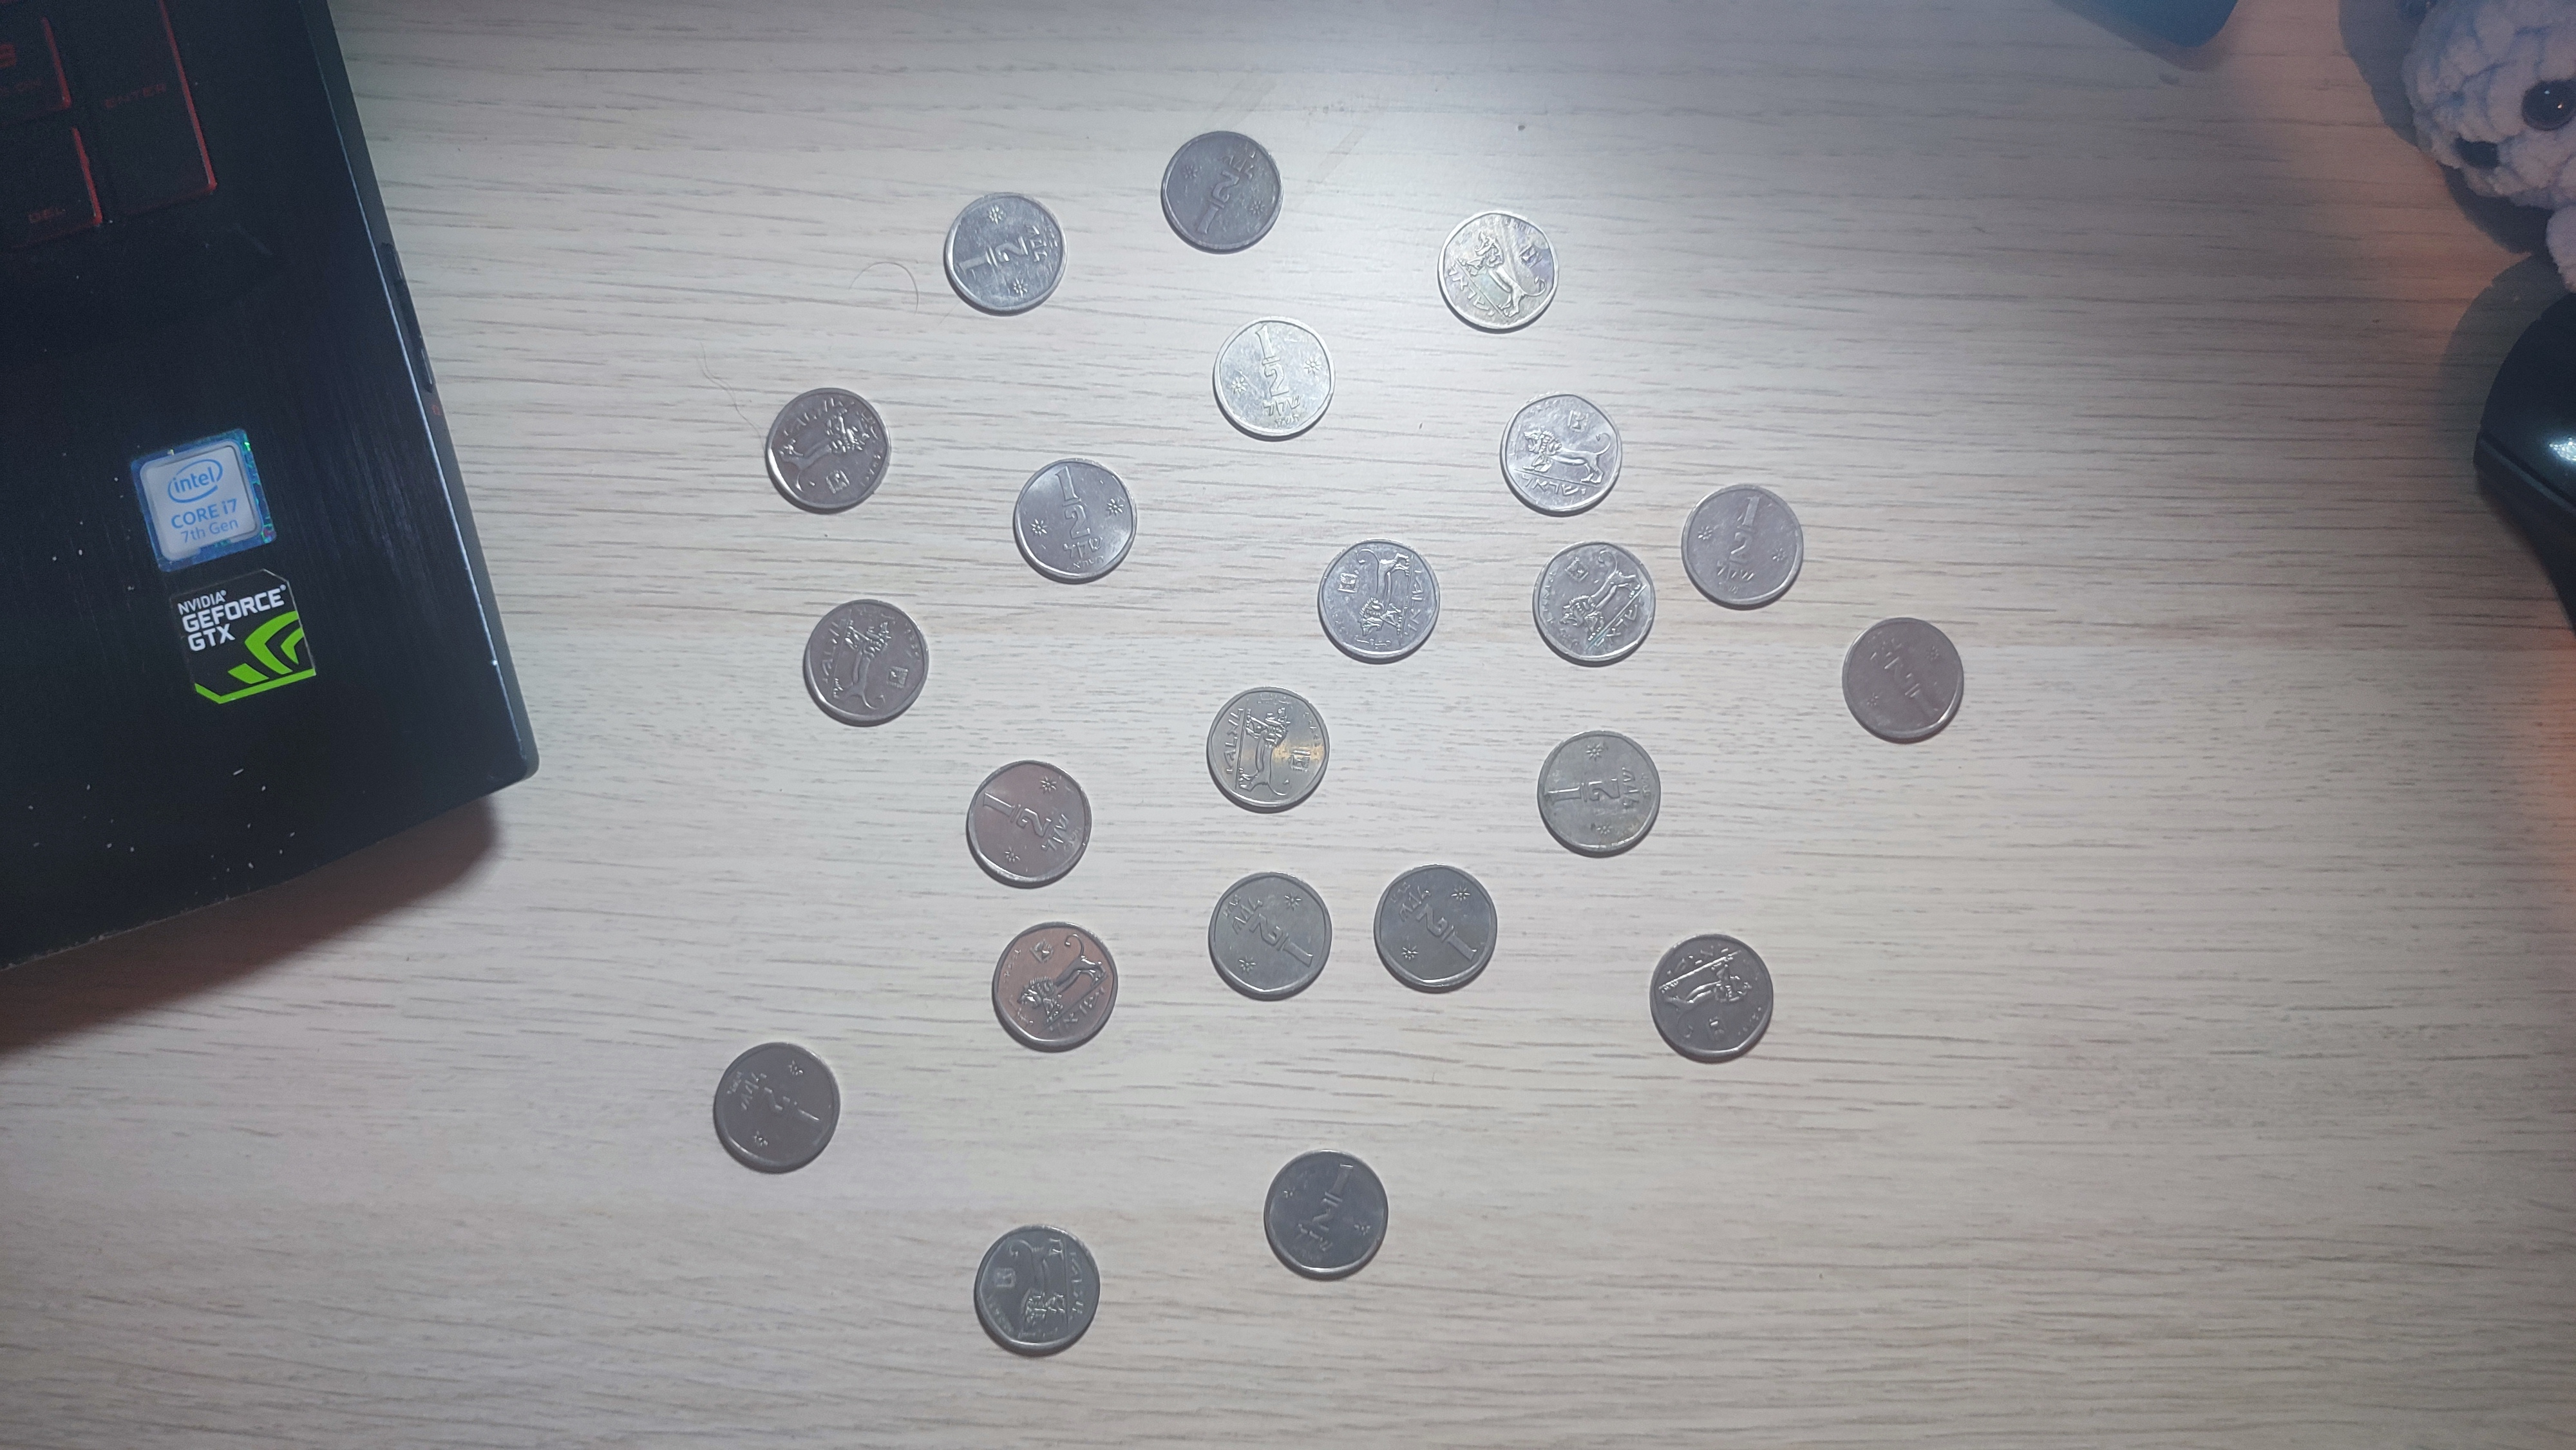1/2 old sheqel: (1261, 1148, 1391, 1280), (713, 1042, 840, 1176), (1371, 863, 1500, 992), (1649, 932, 1776, 1063), (964, 759, 1093, 886), (991, 921, 1118, 1050), (1435, 207, 1562, 336), (766, 387, 893, 515), (973, 1225, 1100, 1353), (803, 598, 929, 727), (941, 189, 1070, 315), (1207, 872, 1334, 997), (1159, 129, 1286, 255), (1840, 617, 1966, 743), (1212, 315, 1338, 440), (1532, 539, 1656, 667), (1012, 456, 1136, 582), (1499, 391, 1624, 515), (1318, 536, 1442, 660), (1681, 483, 1805, 607), (1207, 686, 1330, 808), (1537, 730, 1661, 852)
